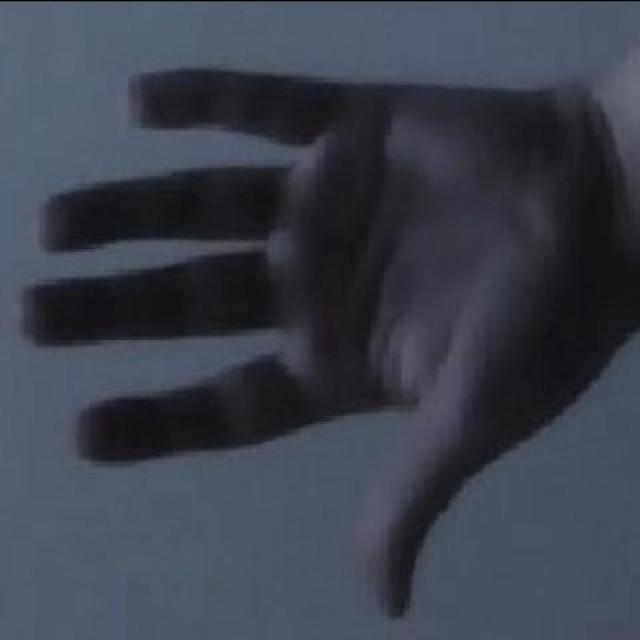Open Hand: (14, 21, 640, 619)
